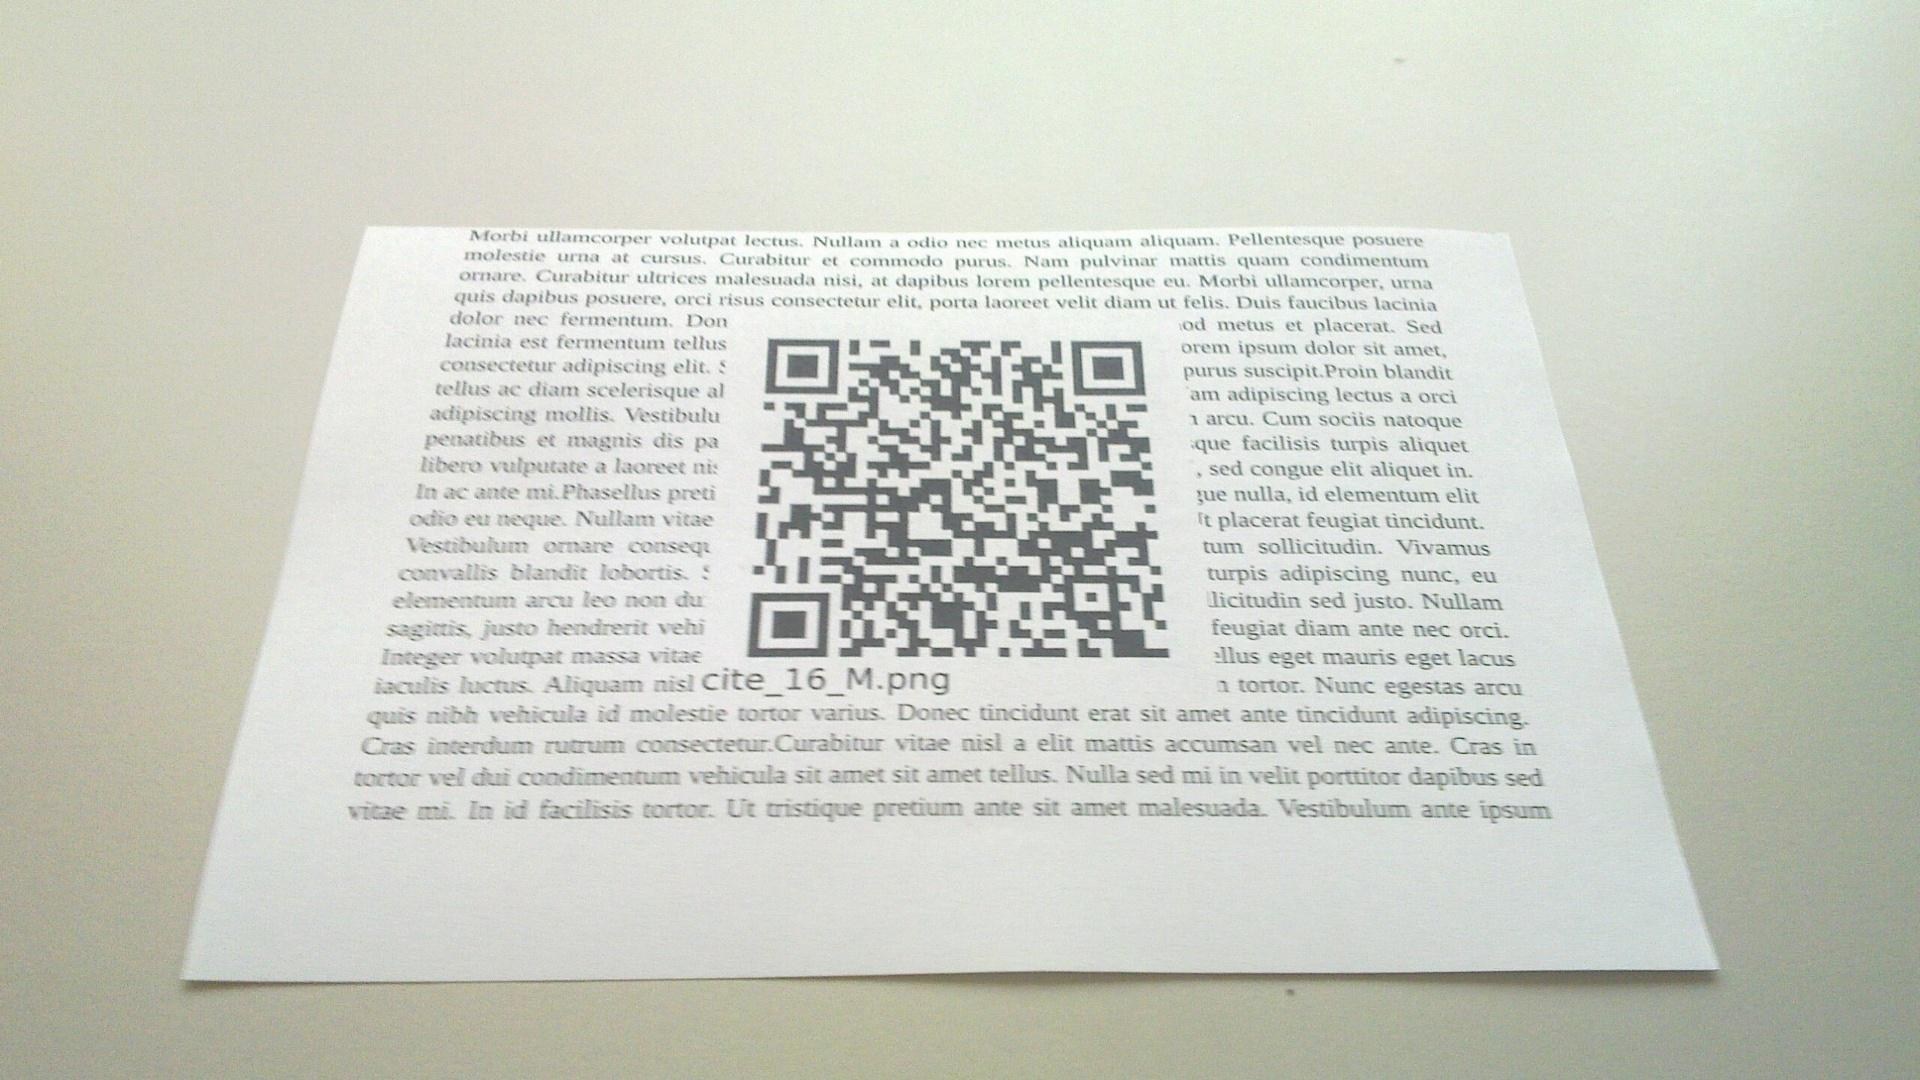Finder pattern: (742, 583, 833, 665), (760, 332, 848, 402), (1067, 336, 1150, 400)
